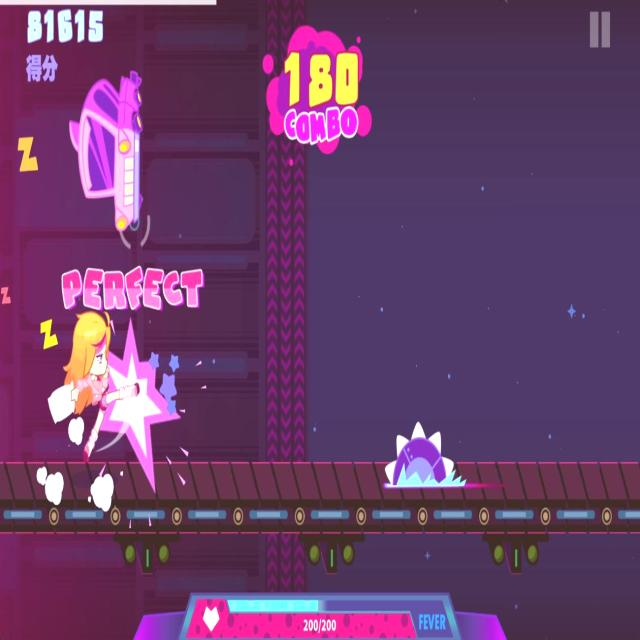che: (68, 66, 144, 230)
ci: (384, 416, 506, 488)
